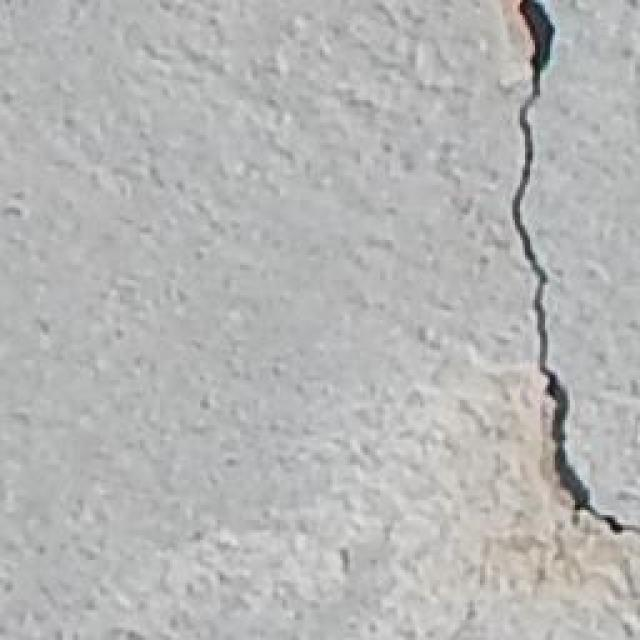concrete-crack: (500, 0, 640, 545)
